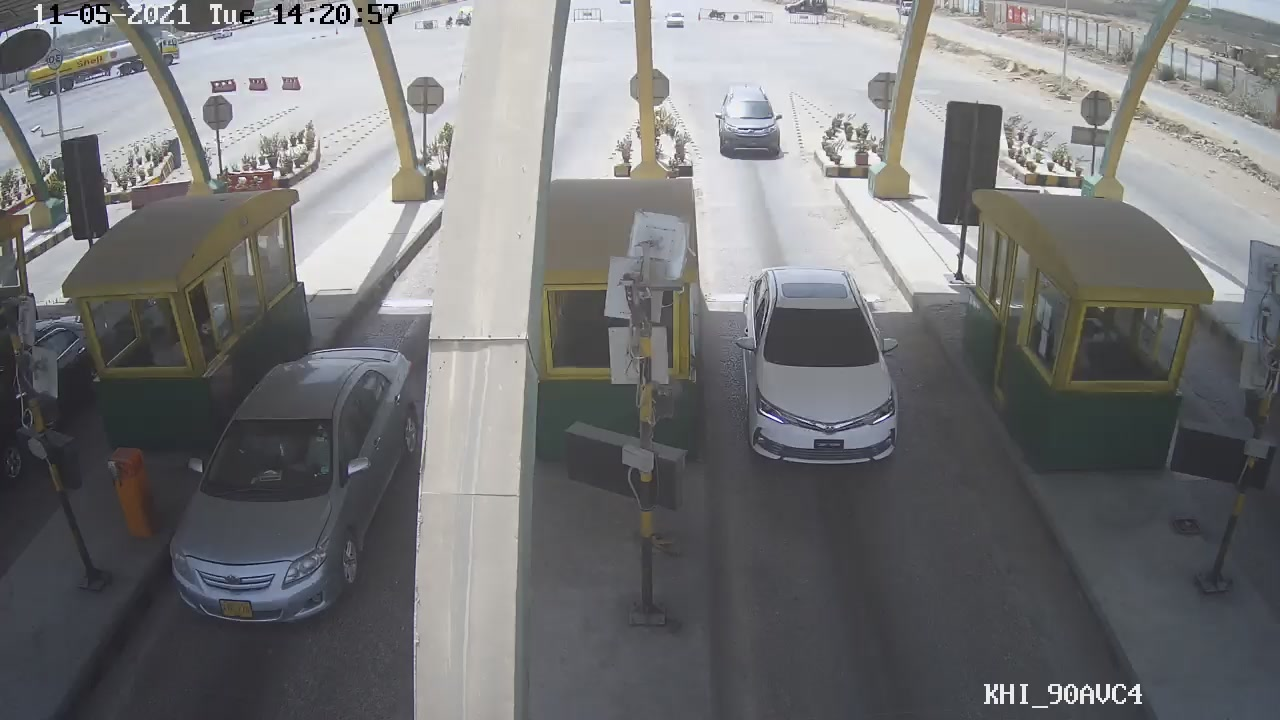F1: (735, 263, 901, 467)
